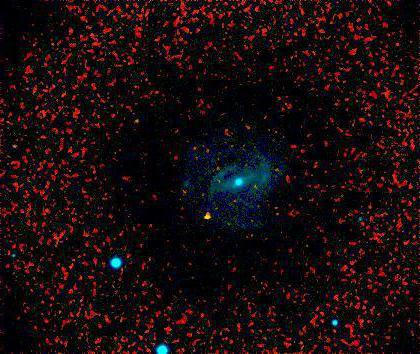star: (191, 204, 221, 234)
